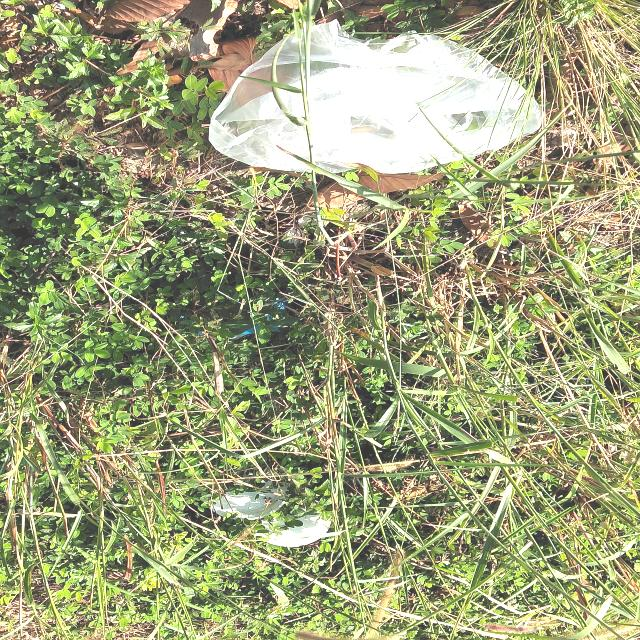Meal carton: (210, 481, 290, 520)
Single-use carrier bag: (209, 19, 542, 174)
Unlabeled litter: (266, 515, 331, 546), (243, 300, 286, 333)
